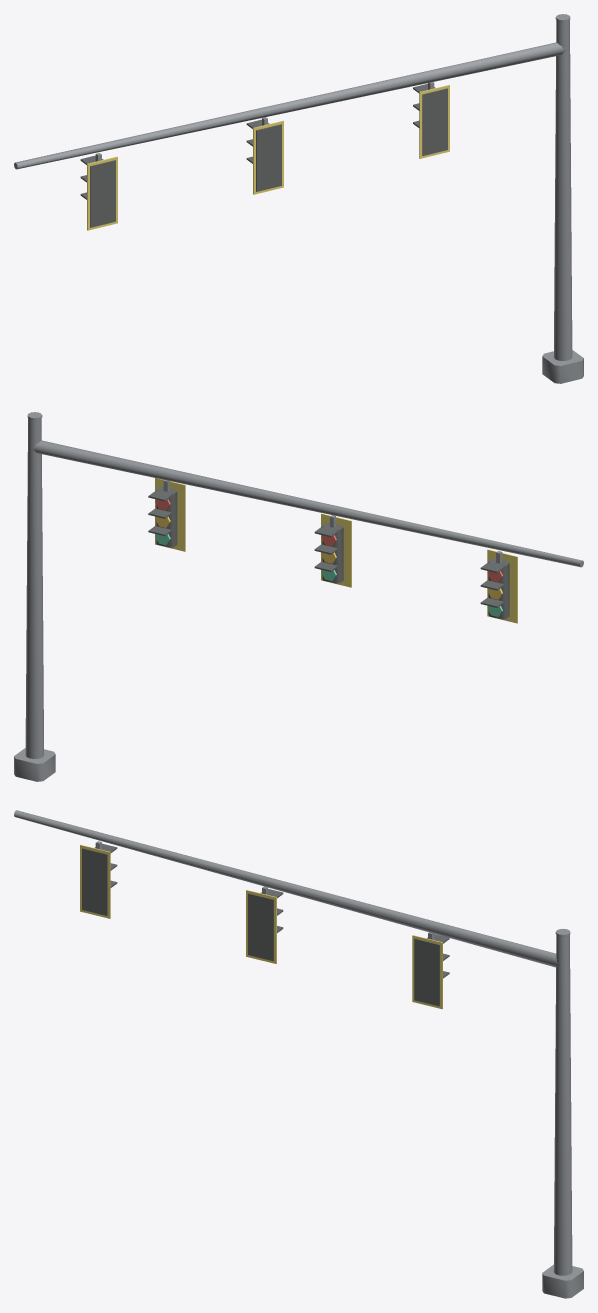
Rendered from signal-3.glb.
3 views of the same model, one above another, from view 1: azimuth 30°, elevation 25°; view 2: azimuth 150°, elevation 25°; view 3: azimuth 330°, elevation 25° (orthographic).
Visible parts, largest first — view 1: signal-3; view 2: signal-3; view 3: signal-3.
Boxes of the visible parts, <box> form: signal-3: <box>14,14,583,383</box>; signal-3: <box>14,412,583,781</box>; signal-3: <box>14,810,583,1298</box>.
Size of the model in its own units: 1.64 by 1 by 0.0936.
